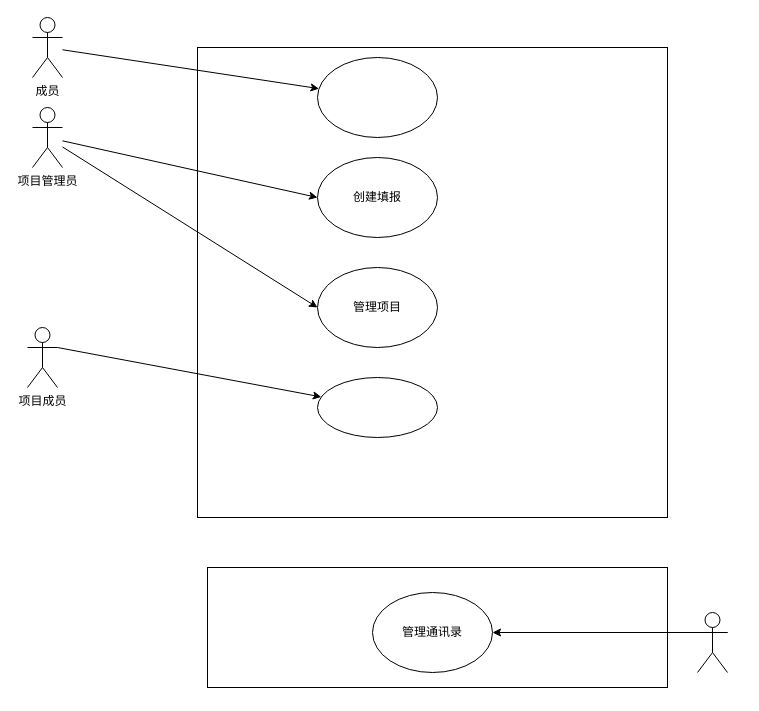
Image size: 759x711. Some labels were removed from this diagram. The shapes that lost their labels are listed below. From the top down, each one's centre as x and y in pixels, then its label:
the point at 377,97: 创建项目
the point at 377,407: 填报
the point at 712,642: 空间管理员
